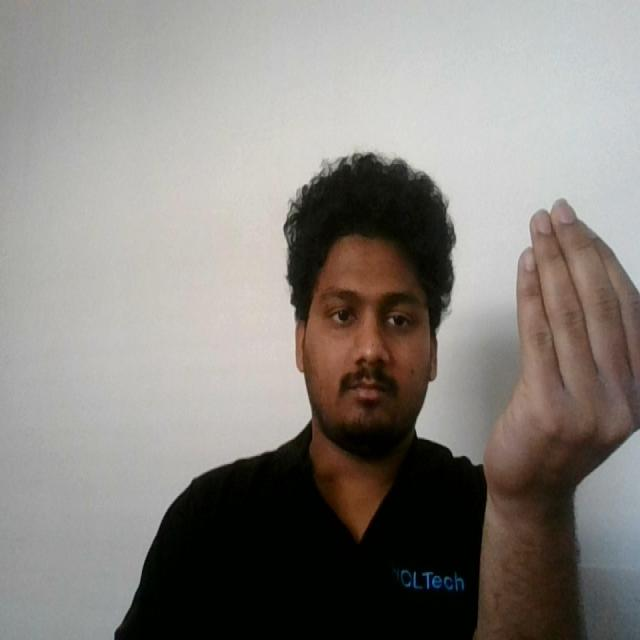Please: (471, 190, 640, 515)
